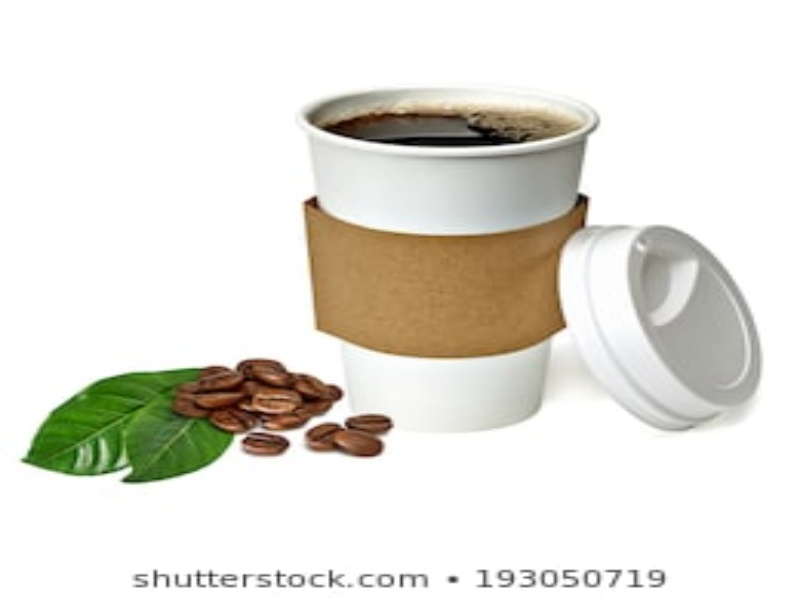coffee-lid: (554, 218, 780, 434)
plastic-cup: (287, 87, 603, 442)
